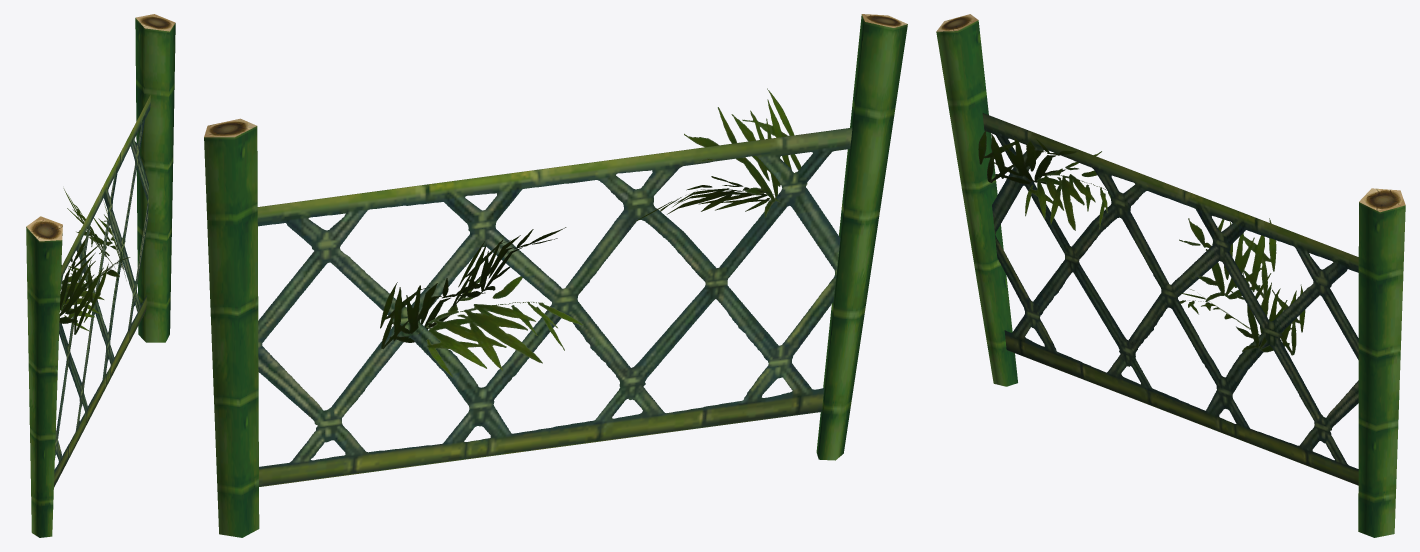
File: environment_common_qingzhulanshan_001_a.FBX
3 views of the same model, side by side, from view 1: azimuth 30°, elevation 25°; view 2: azimuth 150°, elevation 25°; view 3: azimuth 270°, elevation 25° (orthographic). The views are drawn at different scales.
Visible parts, largest first — view 1: environment_common_qingzhulanshan_001_a, environment_common_qingzhulanshan_001_b, environment_common_qingzhulanshan_001_c, environment_common_qingzhulanshan_001_b01, environment_common_qingzhumenkuang_001_d, environment_common_qingzhulanshan_001_c01; view 2: environment_common_qingzhulanshan_001_b, environment_common_qingzhulanshan_001_a, environment_common_qingzhulanshan_001_b01, environment_common_qingzhulanshan_001_c, environment_common_qingzhulanshan_001_c01, environment_common_qingzhumenkuang_001_d; view 3: environment_common_qingzhulanshan_001_b, environment_common_qingzhulanshan_001_a, environment_common_qingzhulanshan_001_b01, environment_common_qingzhulanshan_001_c, environment_common_qingzhulanshan_001_c01, environment_common_qingzhumenkuang_001_d.
Part boxes in pixels (<box>): environment_common_qingzhulanshan_001_a: <box>26,18,175,537</box>; environment_common_qingzhulanshan_001_b: <box>54,95,150,487</box>; environment_common_qingzhulanshan_001_c: <box>59,188,130,334</box>; environment_common_qingzhulanshan_001_b01: <box>54,105,150,485</box>; environment_common_qingzhumenkuang_001_d: <box>26,14,175,241</box>; environment_common_qingzhulanshan_001_c01: <box>59,199,127,332</box>; environment_common_qingzhulanshan_001_b: <box>257,127,852,486</box>; environment_common_qingzhulanshan_001_a: <box>204,14,907,537</box>; environment_common_qingzhulanshan_001_b01: <box>257,130,851,486</box>; environment_common_qingzhulanshan_001_c: <box>380,88,807,377</box>; environment_common_qingzhulanshan_001_c01: <box>380,89,806,376</box>; environment_common_qingzhumenkuang_001_d: <box>204,14,907,137</box>; environment_common_qingzhulanshan_001_b: <box>982,113,1358,485</box>; environment_common_qingzhulanshan_001_a: <box>936,20,1405,537</box>; environment_common_qingzhulanshan_001_b01: <box>989,115,1358,483</box>; environment_common_qingzhulanshan_001_c: <box>978,129,1305,355</box>; environment_common_qingzhulanshan_001_c01: <box>978,131,1304,354</box>; environment_common_qingzhumenkuang_001_d: <box>936,14,1405,212</box>.
Bounding box in the file's own units: 138 × 128 × 154.
Materials: 4 (4 with a texture image).
